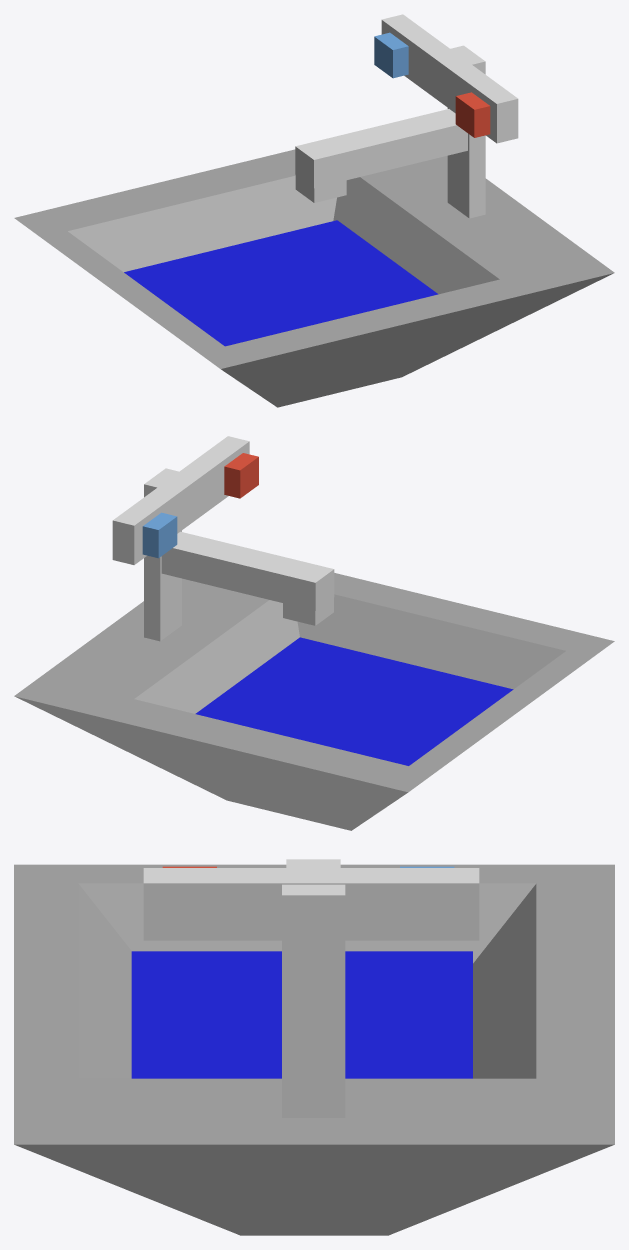
File: Umywalka.fbx
The picture shows the model from 3 angles, top to bottom: view 1: azimuth 30°, elevation 25°; view 2: azimuth 150°, elevation 25°; view 3: azimuth 270°, elevation 25°; orthographic projection. The views are drawn at different scales.
Visible parts, largest first — view 1: Umywaka, Woda, Kran, Button red, Button blue; view 2: Umywaka, Woda, Kran, Button blue, Button red; view 3: Umywaka, Kran, Woda.
Boxes of the visible parts, x1=… form: Umywaka: x1=14, y1=149, x2=614, y2=407; Woda: x1=124, y1=220, x2=438, y2=346; Kran: x1=295, y1=14, x2=518, y2=218; Button red: x1=455, y1=92, x2=490, y2=137; Button blue: x1=374, y1=32, x2=408, y2=78; Umywaka: x1=14, y1=573, x2=614, y2=830; Woda: x1=195, y1=637, x2=513, y2=765; Kran: x1=112, y1=436, x2=334, y2=641; Button blue: x1=142, y1=512, x2=177, y2=558; Button red: x1=224, y1=453, x2=258, y2=498; Umywaka: x1=14, y1=864, x2=614, y2=1235; Kran: x1=143, y1=859, x2=479, y2=1117; Woda: x1=131, y1=951, x2=472, y2=1078.
Size of the model in its own units: 146 by 100 by 133.
